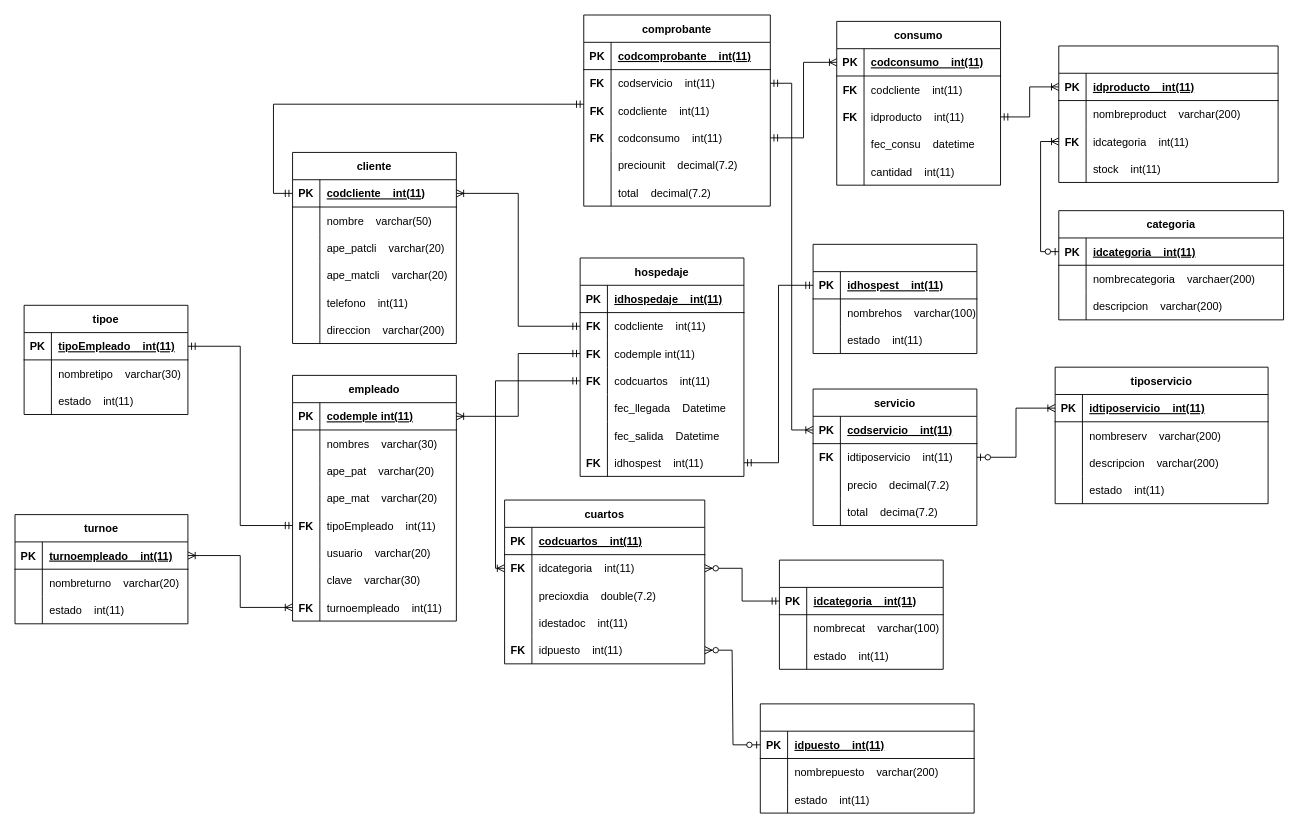
Some shapes in this 1299 by 828 pixel diagram are drawn without their labels. The box of each missing label's shape, as (x1, y1, x2, y2) in pixels:
categoriac: (779, 559, 943, 669)
hospedestado: (812, 243, 977, 354)
Productos: (1058, 45, 1278, 182)
puestocamas: (759, 703, 974, 813)
